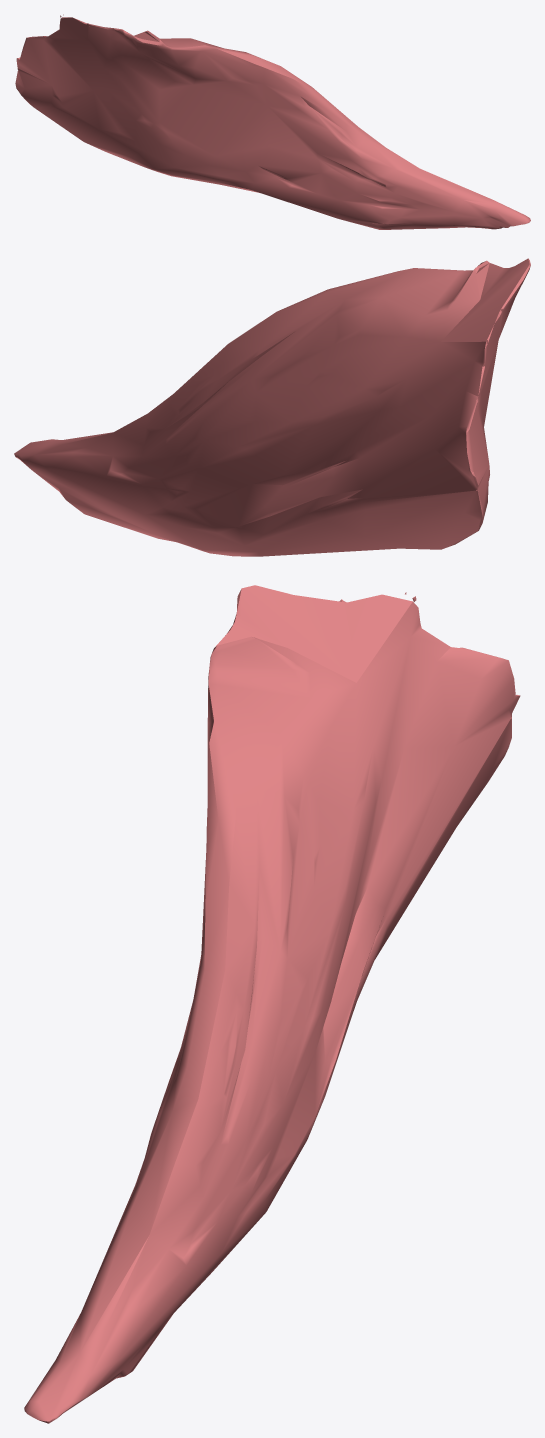
3 renders of one model, top to bottom at view 1: azimuth 30°, elevation 25°; view 2: azimuth 150°, elevation 25°; view 3: azimuth 270°, elevation 25°, orthographic. The views are drawn at different scales.
Visible parts, largest first — view 1: FJ1428M; view 2: FJ1428M; view 3: FJ1428M.
Part boxes in pixels (left/top/right/bottom): FJ1428M: left=15, top=14, right=530, bottom=229; FJ1428M: left=14, top=258, right=530, bottom=556; FJ1428M: left=24, top=585, right=520, bottom=1423.
Size of the model in its own units: 0.111 by 0.066 by 0.0596.
